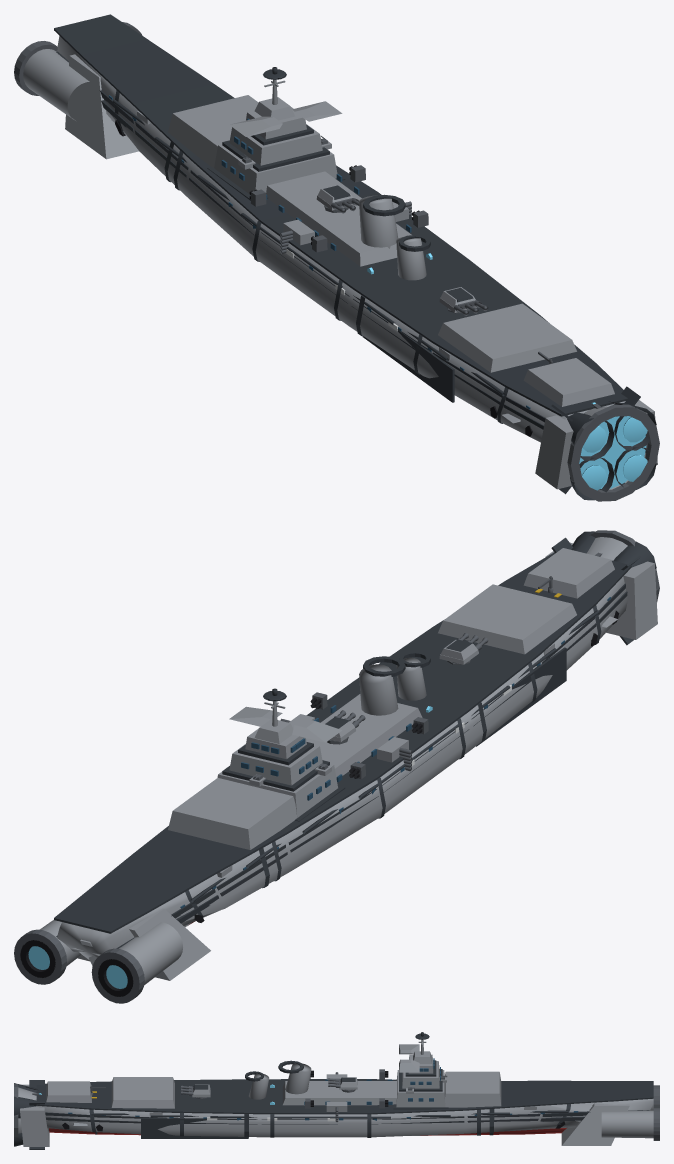
File: andromeda.obj
3 views of the same model, one above another, from view 1: azimuth 30°, elevation 25°; view 2: azimuth 150°, elevation 25°; view 3: azimuth 270°, elevation 25° (orthographic). The views are drawn at different scales.
Parts seen in each view (by area): view 1: hull, superstructure, engine_nozzle, bridge, wave_motion_gun, missile_launcher, wing, radiator; view 2: hull, superstructure, wave_motion_gun, bridge, engine_nozzle, missile_launcher, wing, radiator; view 3: hull, superstructure, bridge, engine_nozzle, wave_motion_gun, missile_launcher, radiator, wing.
Boxes of the visible parts, bbox=[...] form: hull: bbox=[54, 14, 627, 442]; superstructure: bbox=[109, 95, 614, 409]; engine_nozzle: bbox=[535, 386, 659, 501]; bridge: bbox=[207, 67, 345, 200]; wave_motion_gun: bbox=[14, 22, 142, 120]; missile_launcher: bbox=[249, 165, 488, 315]; wing: bbox=[229, 101, 520, 423]; radiator: bbox=[362, 330, 454, 402]; hull: bbox=[54, 552, 631, 980]; superstructure: bbox=[168, 548, 614, 908]; wave_motion_gun: bbox=[14, 920, 182, 1003]; bridge: bbox=[217, 688, 345, 821]; engine_nozzle: bbox=[545, 530, 659, 645]; missile_launcher: bbox=[310, 633, 488, 779]; wing: bbox=[229, 616, 617, 742]; radiator: bbox=[476, 647, 566, 746]; hull: bbox=[36, 1079, 653, 1145]; superstructure: bbox=[46, 1060, 578, 1122]; bridge: bbox=[393, 1032, 448, 1109]; engine_nozzle: bbox=[14, 1080, 49, 1149]; wave_motion_gun: bbox=[601, 1085, 659, 1140]; missile_launcher: bbox=[181, 1069, 388, 1108]; radiator: bbox=[141, 1118, 248, 1138]; wing: bbox=[73, 1044, 419, 1125].
Size of the model in its own units: 62 by 83.5 by 444.
